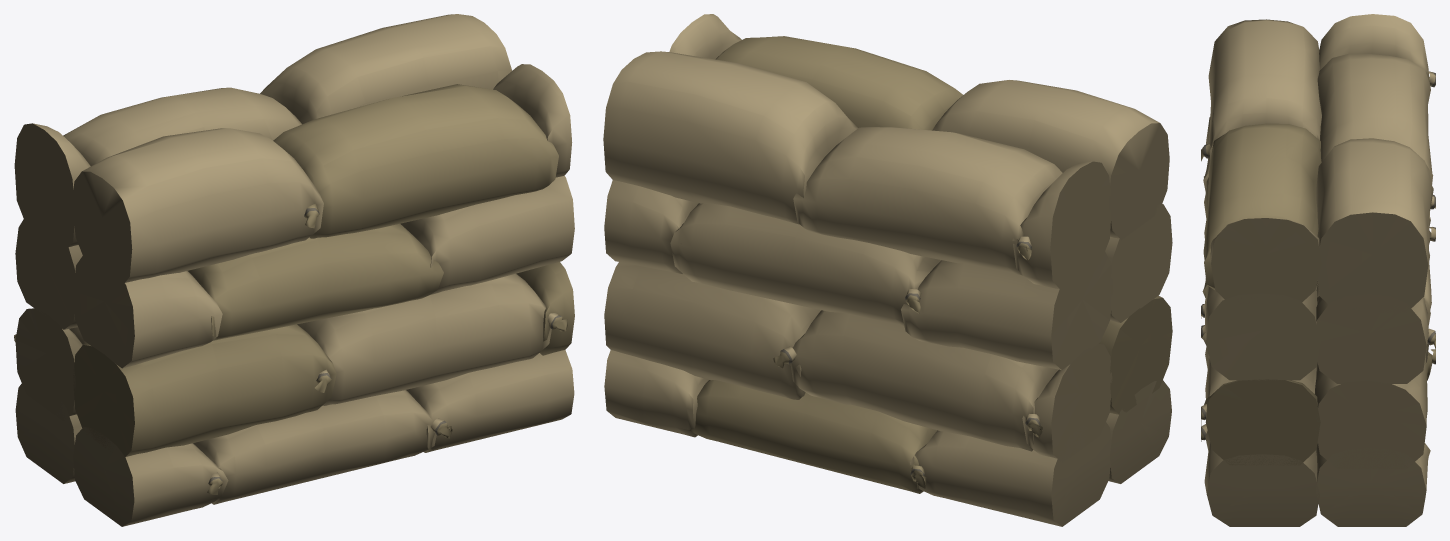
Rendered from sandbags_c.glb.
3 views of the same model, side by side, from view 1: azimuth 30°, elevation 25°; view 2: azimuth 150°, elevation 25°; view 3: azimuth 270°, elevation 25° (orthographic). The views are drawn at different scales.
Visible parts, largest first — view 1: sandbags_c; view 2: sandbags_c; view 3: sandbags_c.
Boxes of the visible parts, bbox=[...] form: sandbags_c: bbox=[14, 14, 574, 526]; sandbags_c: bbox=[603, 14, 1172, 526]; sandbags_c: bbox=[1201, 14, 1435, 526].
Bounding box in the file's own units: 1.2 × 0.9 × 0.6.
